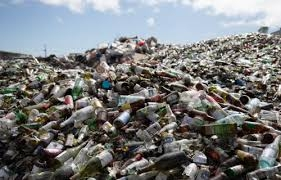glass: (71, 147, 118, 180), (136, 150, 193, 176), (60, 104, 99, 129), (256, 132, 281, 170), (113, 108, 140, 128), (187, 106, 218, 123), (244, 165, 281, 179), (232, 168, 252, 178)
